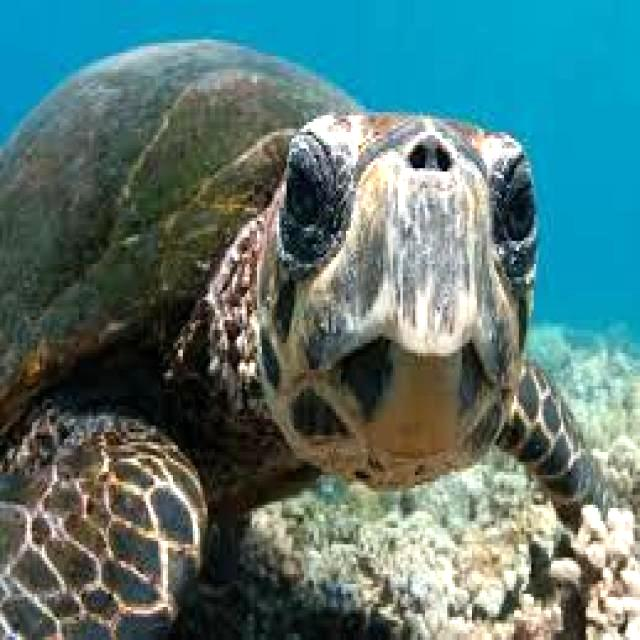Sea turtle: (0, 0, 609, 639)
